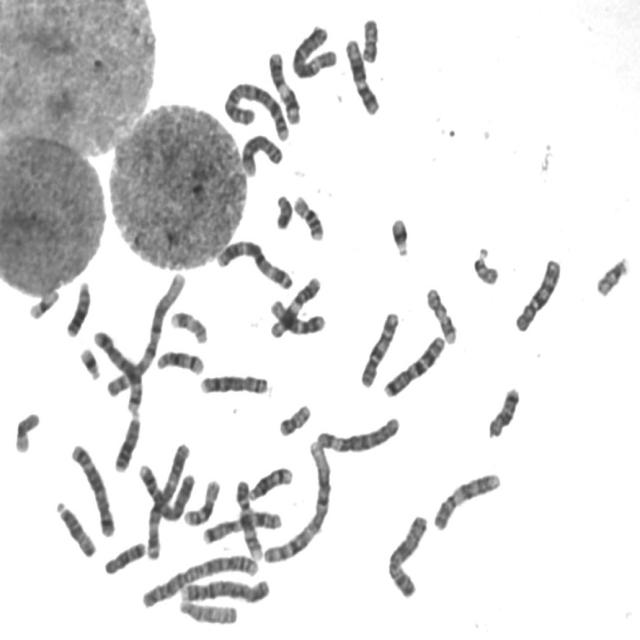A1: (101, 265, 188, 400), (259, 434, 334, 566)
A2: (137, 548, 261, 610), (219, 76, 291, 142)
A3: (142, 436, 192, 562), (212, 234, 295, 292)
B4: (134, 456, 198, 523), (177, 572, 272, 604)
B5: (66, 436, 116, 538), (90, 323, 144, 416)
C10: (510, 251, 563, 334), (356, 305, 401, 390)
C11: (267, 272, 323, 340), (264, 45, 302, 126)
C12: (341, 32, 382, 117), (266, 293, 327, 337)
C6: (311, 410, 401, 456), (288, 19, 338, 80)
C7: (378, 329, 447, 399), (198, 505, 284, 546)
C8: (238, 128, 286, 178), (196, 368, 270, 396)
C9: (428, 467, 503, 532), (231, 474, 265, 561)
D13: (110, 409, 142, 474), (62, 275, 92, 339)
D14: (244, 461, 294, 502), (152, 344, 206, 376)
D15: (51, 494, 98, 560), (175, 594, 239, 626)
E16: (179, 473, 223, 527), (289, 189, 326, 242)
E17: (422, 282, 459, 346), (166, 306, 210, 346)
E18: (484, 381, 522, 440), (100, 536, 148, 576)
F19: (24, 283, 61, 321), (14, 410, 41, 454)
F20: (274, 398, 312, 438), (361, 19, 379, 64)
G21: (386, 211, 412, 258), (76, 342, 103, 382)
G22: (592, 250, 631, 298), (470, 241, 501, 287)
X: (382, 508, 430, 600)
Y: (271, 188, 294, 230)
